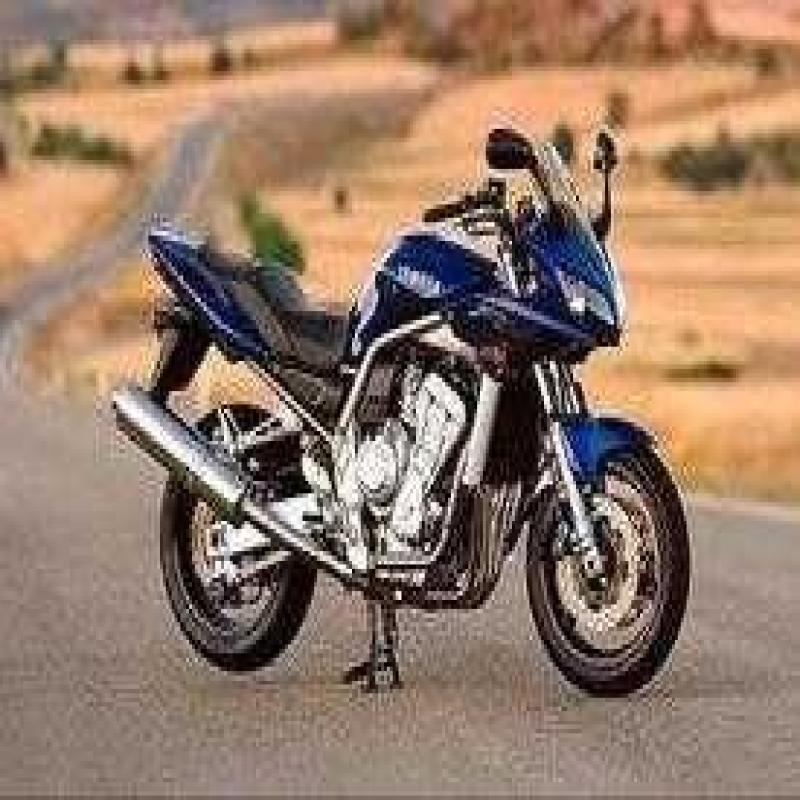bike: (120, 87, 705, 706)
